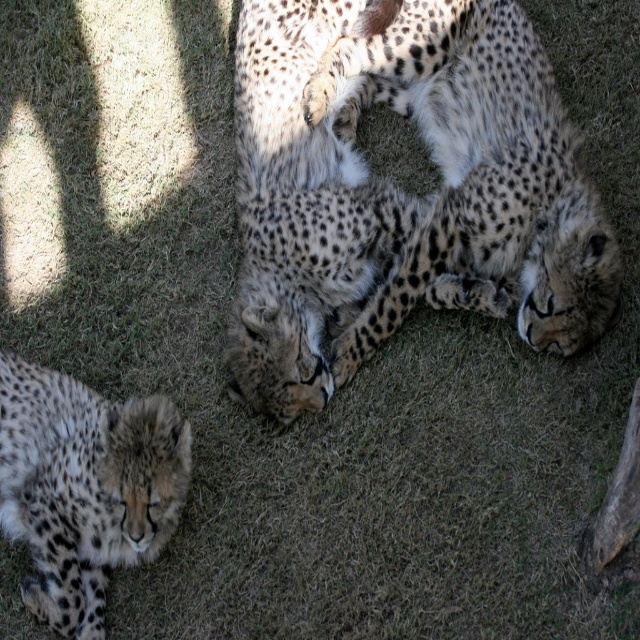Jaguar: (304, 0, 625, 390), (225, 0, 511, 436), (0, 352, 192, 640)
